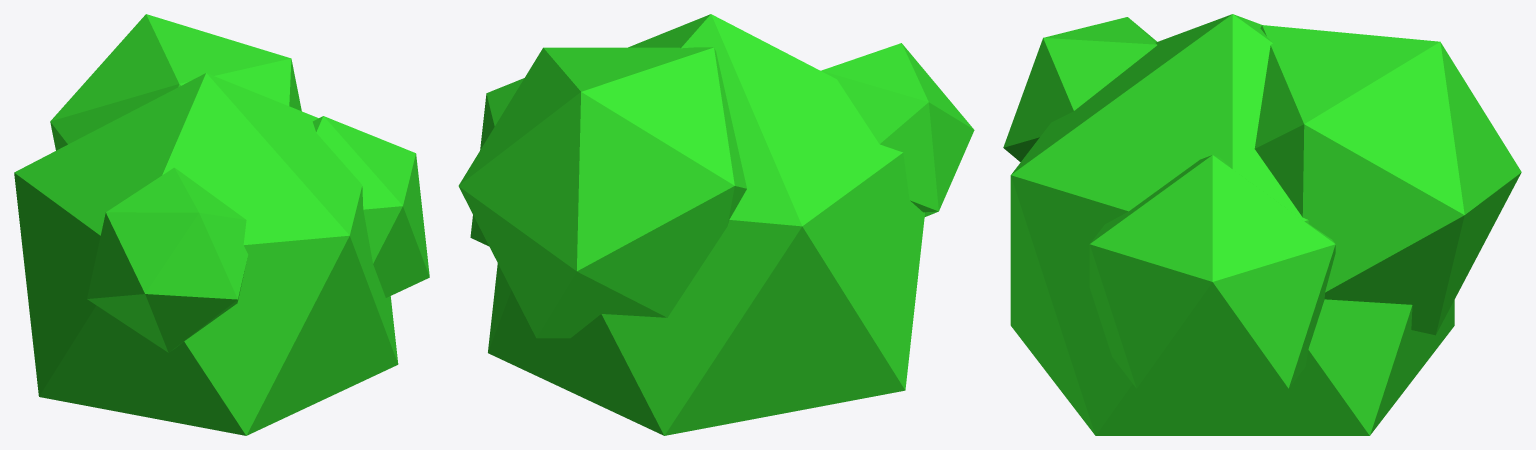
The model's file is Uneven Bush.fbx.
3 views of the same model, side by side, from view 1: azimuth 30°, elevation 25°; view 2: azimuth 150°, elevation 25°; view 3: azimuth 270°, elevation 25° (orthographic). The views are drawn at different scales.
Parts seen in each view (by area): view 1: Uneven Bush; view 2: Uneven Bush; view 3: Uneven Bush.
Boxes of the visible parts, box(x1,y1,x2,y2) form: Uneven Bush: box(14, 14, 429, 435); Uneven Bush: box(458, 14, 974, 435); Uneven Bush: box(1003, 14, 1521, 435).
Size of the model in its own units: 258 by 199 by 260.
